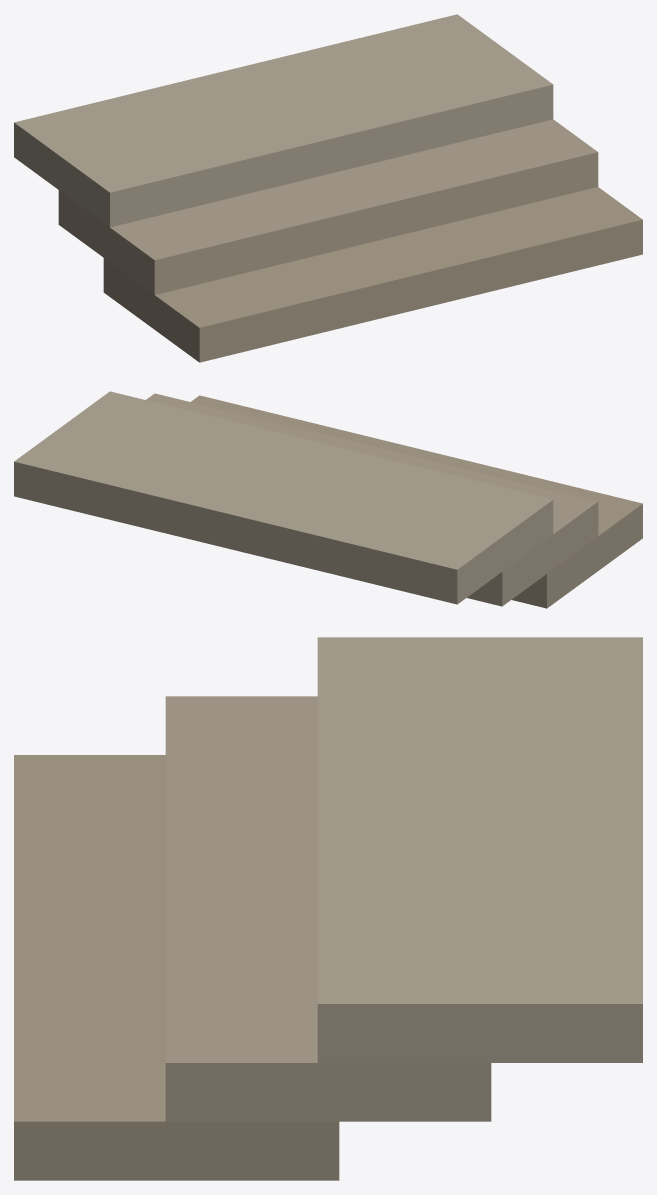
File: coliseum_seat_segment.glb
3 renders of one model, top to bottom at view 1: azimuth 30°, elevation 25°; view 2: azimuth 150°, elevation 25°; view 3: azimuth 270°, elevation 25°, orthographic. The views are drawn at different scales.
Parts seen in each view (by area): view 1: world; view 2: world; view 3: world.
Part boxes in pixels (left/top/right/bottom): world: left=14, top=14, right=642, bottom=362; world: left=14, top=391, right=642, bottom=608; world: left=14, top=637, right=642, bottom=1180.
Bounding box in the file's own units: 4 × 0.9 × 2.9.
